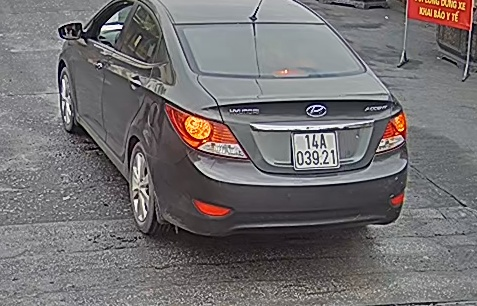vehicle plate: (288, 124, 343, 171)
